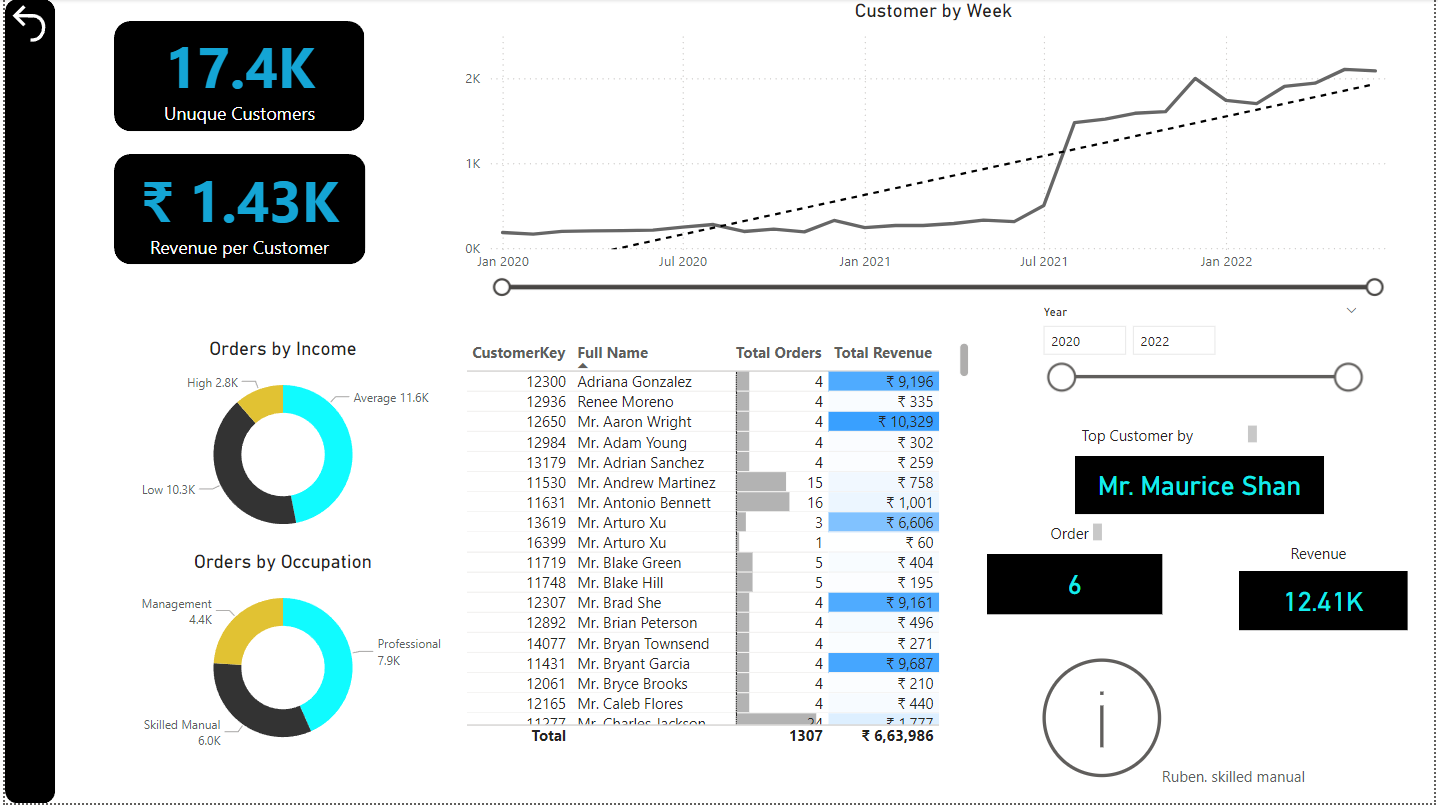

This screenshot's page, from the dashboard's own definition file:
{"tool":"powerbi","page":{"name":"Customer Detail","canvas":[1280,720],"ordinal":3},"visuals":[{"type":"shape","box":[0,0,45,720.4],"z":0},{"type":"group","id":"g1","title":"Group 1","box":[91.8,19,237.4,99.8],"z":1000},{"type":"shape","box":[97.3,138.8,225.5,98.8],"z":1250,"group":"g2"},{"type":"card","fields":{"Values":["Measure Table.Average Revenue per Customer"]},"box":[91.3,138.8,237.4,99.8],"z":1500,"group":"g2"},{"type":"shape","box":[97.8,20,224.5,98.8],"z":2000,"group":"g1"},{"type":"group","id":"g2","title":"Group 2","box":[91.3,138.8,237.3,100.3],"z":2000},{"type":"lineChart","title":"Customer by Week","fields":{"Y":["Measure Table.Total Customers"],"Category":["Calendar Lookup.Date Hierarchy.Start of Year","Calendar Lookup.Date Hierarchy.Start of Month","Calendar Lookup.Date Hierarchy.Start of Week","Calendar Lookup.Date Hierarchy.Date"]},"box":[406.2,0,849.6,269.1],"z":3000},{"type":"card","fields":{"Values":["Measure Table.Total Customers"]},"box":[91.8,19,237.4,99.8],"z":4000,"group":"g1"},{"type":"donutChart","title":"Orders by Income","fields":{"Category":["Customer Lookup.Income Level"],"Y":["Measure Table.Total Orders"]},"box":[91.8,302.3,315.3,191.6],"z":4000},{"type":"donutChart","title":"Orders by Occupation","fields":{"Y":["Measure Table.Total Orders"],"Category":["Customer Lookup.Occupation"]},"box":[91.8,493.8,315.3,191.6],"z":5000},{"type":"tableEx","fields":{"Values":["Customer Lookup.CustomerKey","Customer Lookup.Full Name","Measure Table.Total Orders","Measure Table.Total Revenue"]},"box":[407,302.3,460.9,370.1],"z":6000},{"type":"card","fields":{"Values":["Measure Table.Full Name (Customer Detail)"]},"box":[958.2,409.3,223,51.9],"z":7000},{"type":"card","fields":{"Values":["Measure Table.Total Orders (Customer Detail)"]},"box":[879.4,497,156.7,53.7],"z":8000},{"type":"card","fields":{"Values":["Measure Table.Total Revenue (Customer Detail)"]},"box":[1105.4,511.8,150.6,52.9],"z":9000},{"type":"textbox","box":[958.8,377.1,166.6,29.9],"z":10000},{"type":"textbox","box":[931.3,464.8,55.5,29.6],"z":11000},{"type":"textbox","box":[1146.3,482.9,68.8,28.9],"z":12000},{"type":"slicer","fields":{"Values":["Calendar Lookup.Year"]},"box":[917,268.7,306.3,91.3],"z":13000},{"type":"actionButton","box":[916.8,578.3,356.1,130.5],"z":13001},{"type":"actionButton","box":[0,0,83.5,43.5],"z":13002}]}

Visuals, with their boxes on the page's 1280x720 design canvas (x1, y1, x2, y2). These are canvas units, not pixel positions in the 1438x806 screenshot, which may show the page scaled, cropped or inside an application window:
shape: left=0, top=0, right=45, bottom=720
"Group 1" group: left=92, top=19, right=329, bottom=119
shape: left=97, top=139, right=323, bottom=238
card - Measure Table.Average Revenue per Customer: left=91, top=139, right=329, bottom=239
shape: left=98, top=20, right=322, bottom=119
"Group 2" group: left=91, top=139, right=329, bottom=239
"Customer by Week" lineChart: left=406, top=0, right=1256, bottom=269
card - Measure Table.Total Customers: left=92, top=19, right=329, bottom=119
"Orders by Income" donutChart: left=92, top=302, right=407, bottom=494
"Orders by Occupation" donutChart: left=92, top=494, right=407, bottom=685
tableEx - Customer Lookup.CustomerKey x Customer Lookup.Full Name: left=407, top=302, right=868, bottom=672
card - Measure Table.Full Name (Customer Detail): left=958, top=409, right=1181, bottom=461
card - Measure Table.Total Orders (Customer Detail): left=879, top=497, right=1036, bottom=551
card - Measure Table.Total Revenue (Customer Detail): left=1105, top=512, right=1256, bottom=565
textbox: left=959, top=377, right=1125, bottom=407
textbox: left=931, top=465, right=987, bottom=494
textbox: left=1146, top=483, right=1215, bottom=512
slicer - Calendar Lookup.Year: left=917, top=269, right=1223, bottom=360
actionButton: left=917, top=578, right=1273, bottom=709
actionButton: left=0, top=0, right=84, bottom=44
